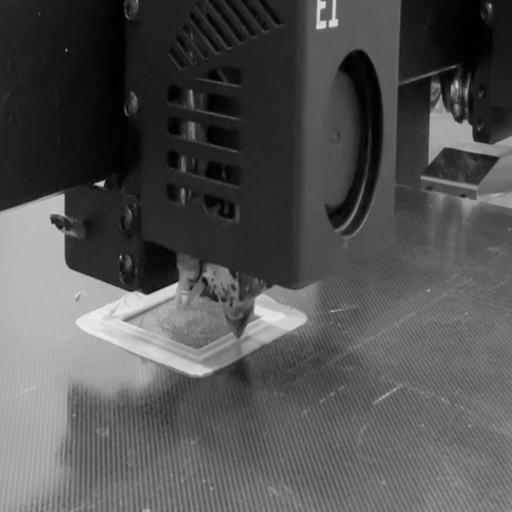spaghetti_and_stringing: (96, 288, 162, 326)
